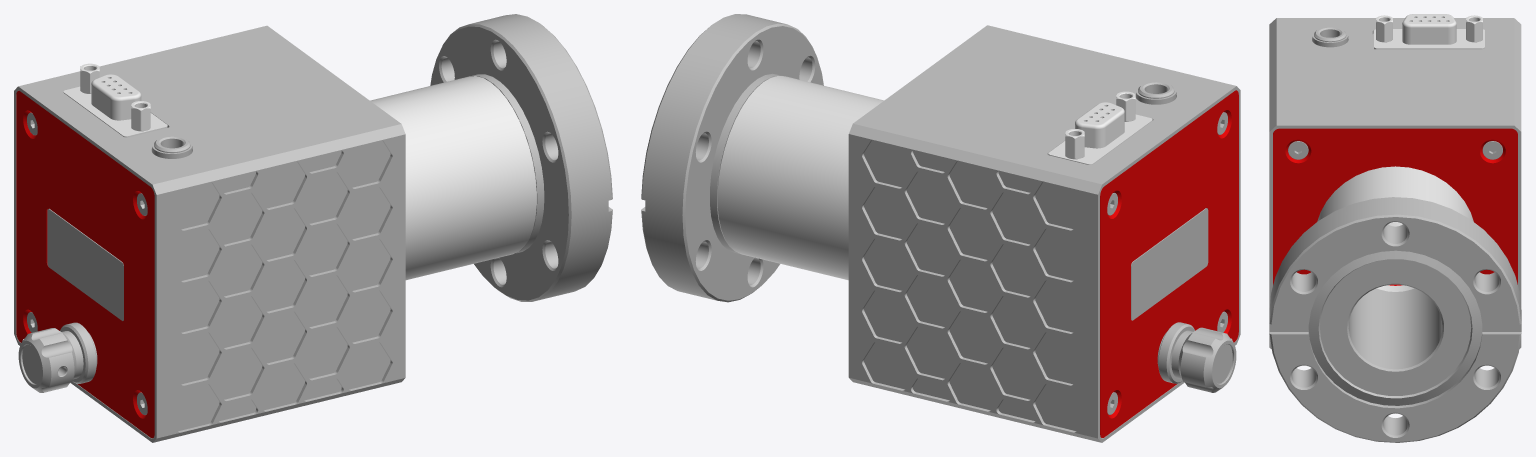
The model's file is sensor.glb.
The picture shows the model from 3 angles, left to right: view 1: azimuth 30°, elevation 25°; view 2: azimuth 150°, elevation 25°; view 3: azimuth 270°, elevation 25°; orthographic projection. The views are drawn at different scales.
Parts seen in each view (by area): view 1: Блок Электроники (×8), Корпус; view 2: Блок Электроники (×8), Корпус; view 3: Блок Электроники (×9), Корпус.
Boxes of the visible parts, bbox=[...] form: Блок Электроники (×8): bbox=[14, 25, 536, 442]; Корпус: bbox=[430, 14, 612, 301]; Блок Электроники (×8): bbox=[717, 25, 1240, 442]; Корпус: bbox=[641, 14, 823, 302]; Блок Электроники (×9): bbox=[1269, 14, 1521, 349]; Корпус: bbox=[1269, 197, 1521, 442].
Size of the model in its own units: 0.1453 by 0.0762 by 0.0701.
